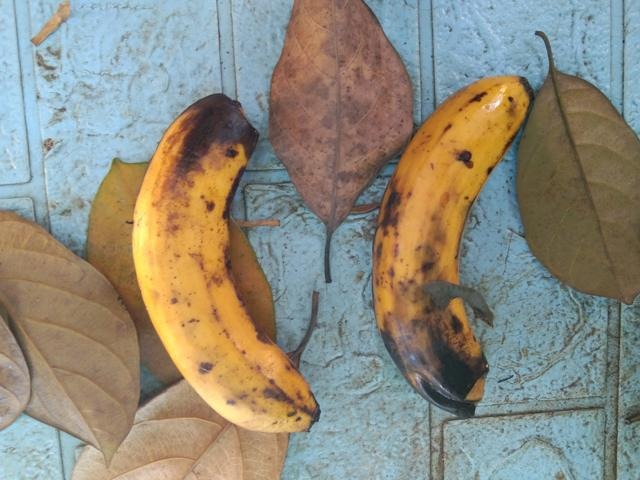overripe: (126, 71, 327, 439)
rotten: (355, 67, 563, 440)
